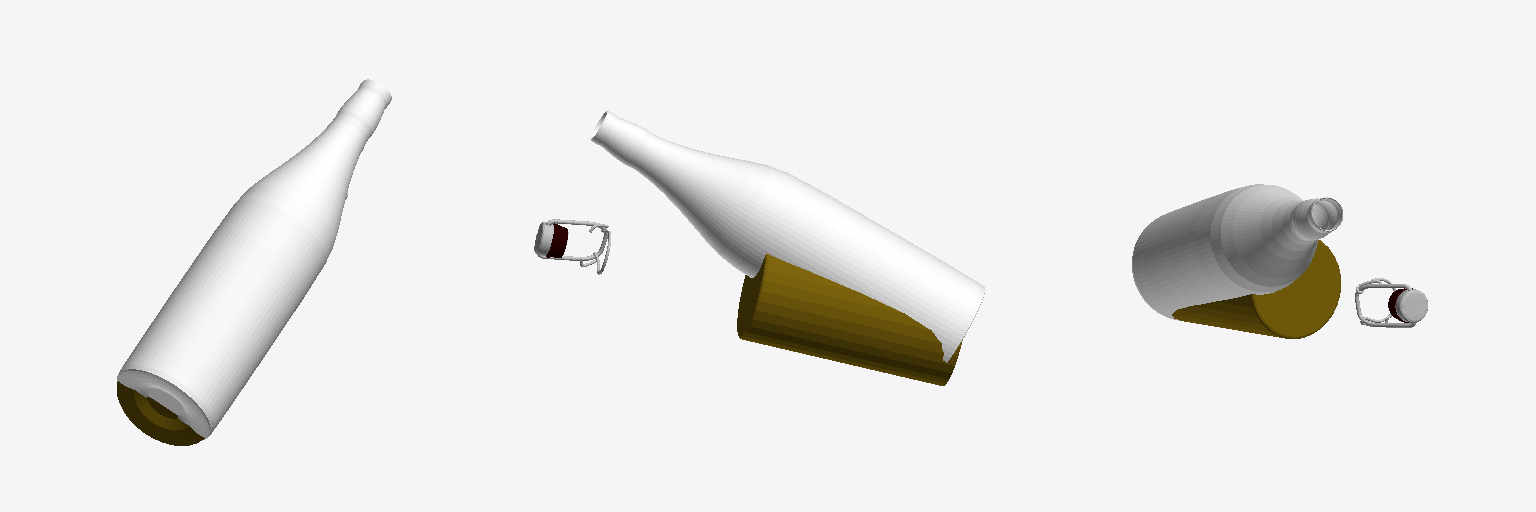
The model's file is bottleA.obj.
3 views of the same model, side by side, from view 1: azimuth 30°, elevation 25°; view 2: azimuth 150°, elevation 25°; view 3: azimuth 270°, elevation 25° (orthographic).
Parts seen in each view (by area): view 1: bottle-body, liquid; view 2: bottle-body, liquid; view 3: bottle-body, liquid, bottle-stopper-02, bottle-metal-03.
Part boxes in pixels (left/top/right/bottom): bottle-body: left=117, top=79, right=391, bottom=439; liquid: left=117, top=381, right=204, bottom=445; bottle-body: left=590, top=111, right=984, bottom=362; liquid: left=737, top=254, right=962, bottom=385; bottle-body: left=1132, top=184, right=1342, bottom=320; liquid: left=1172, top=240, right=1340, bottom=338; bottle-stopper-02: left=1395, top=289, right=1427, bottom=322; bottle-metal-03: left=1355, top=284, right=1415, bottom=327.
Size of the model in its own units: 0.2424 by 0.1715 by 0.1833.